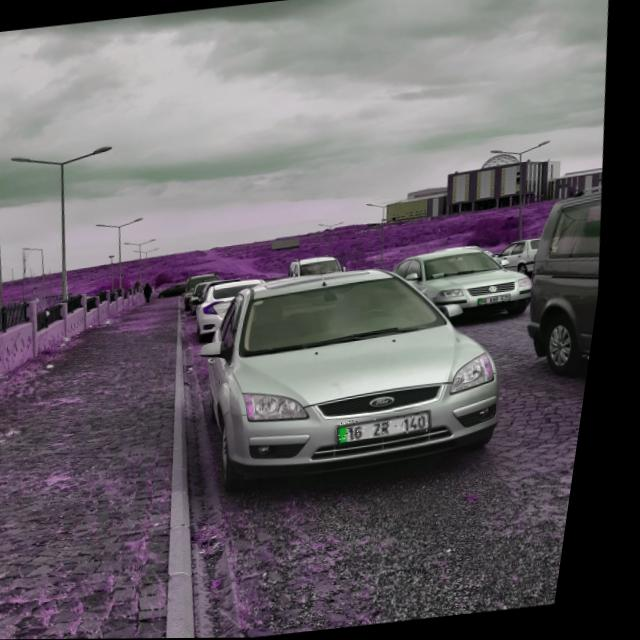license_plate: (348, 413, 443, 442)
